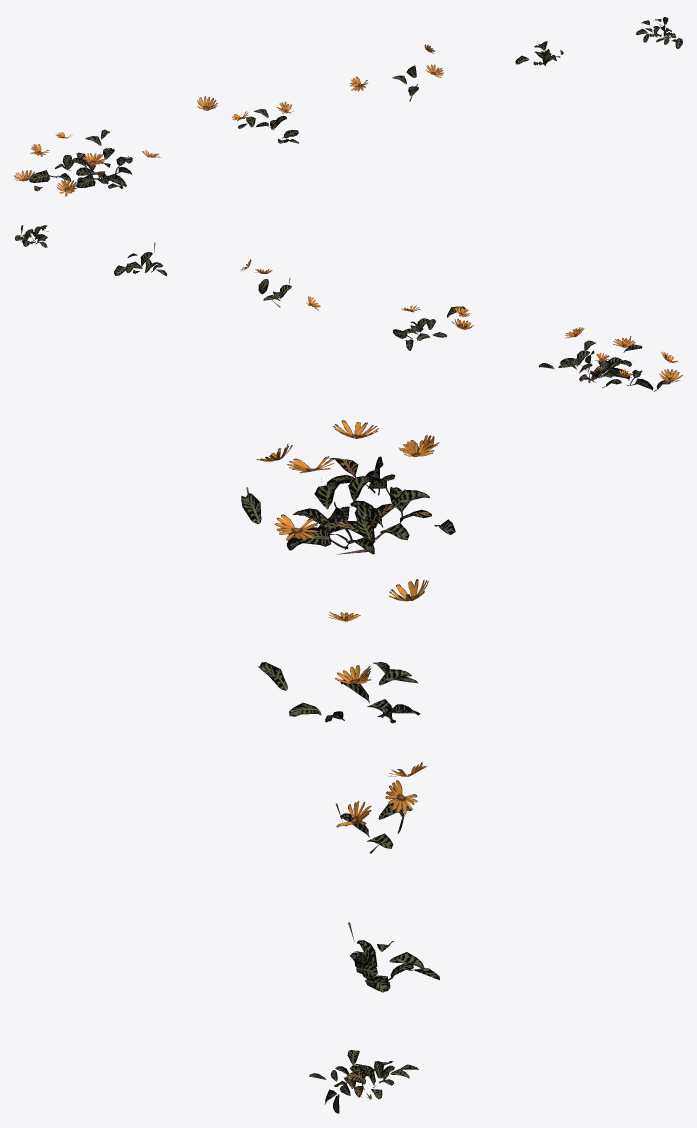
File: flower_ursinia_lo.glb
3 renders of one model, top to bottom at view 1: azimuth 30°, elevation 25°; view 2: azimuth 150°, elevation 25°; view 3: azimuth 270°, elevation 25°, orthographic. The views are drawn at different scales.
Parts seen in each view (by area): view 1: flower_ursinia_a_LOD0, flower_ursinia_b_LOD0, flower_ursinia_c_LOD0, flower_ursinia_e_LOD0, flower_ursinia_d_LOD0; view 2: flower_ursinia_a_LOD0, flower_ursinia_b_LOD0, flower_ursinia_c_LOD0, flower_ursinia_d_LOD0, flower_ursinia_e_LOD0; view 3: flower_ursinia_a_LOD0, flower_ursinia_b_LOD0, flower_ursinia_e_LOD0, flower_ursinia_c_LOD0, flower_ursinia_d_LOD0.
Boxes of the visible parts, x1,y1,x2,y2 form: flower_ursinia_a_LOD0: (14,129,161,196); flower_ursinia_b_LOD0: (197,96,298,143); flower_ursinia_c_LOD0: (350,44,443,101); flower_ursinia_e_LOD0: (636,17,682,48); flower_ursinia_d_LOD0: (515,41,563,65); flower_ursinia_a_LOD0: (538,327,682,391); flower_ursinia_b_LOD0: (393,305,474,350); flower_ursinia_c_LOD0: (240,259,320,310); flower_ursinia_d_LOD0: (114,242,167,276); flower_ursinia_e_LOD0: (15,225,48,247); flower_ursinia_a_LOD0: (241,420,455,554); flower_ursinia_b_LOD0: (258,579,428,723); flower_ursinia_e_LOD0: (309,1050,418,1113); flower_ursinia_c_LOD0: (335,762,427,853); flower_ursinia_d_LOD0: (348,922,439,992).
Size of the model in its own units: 2.18 by 0.1554 by 0.3047.
Materials: 1 (1 with a texture image).
